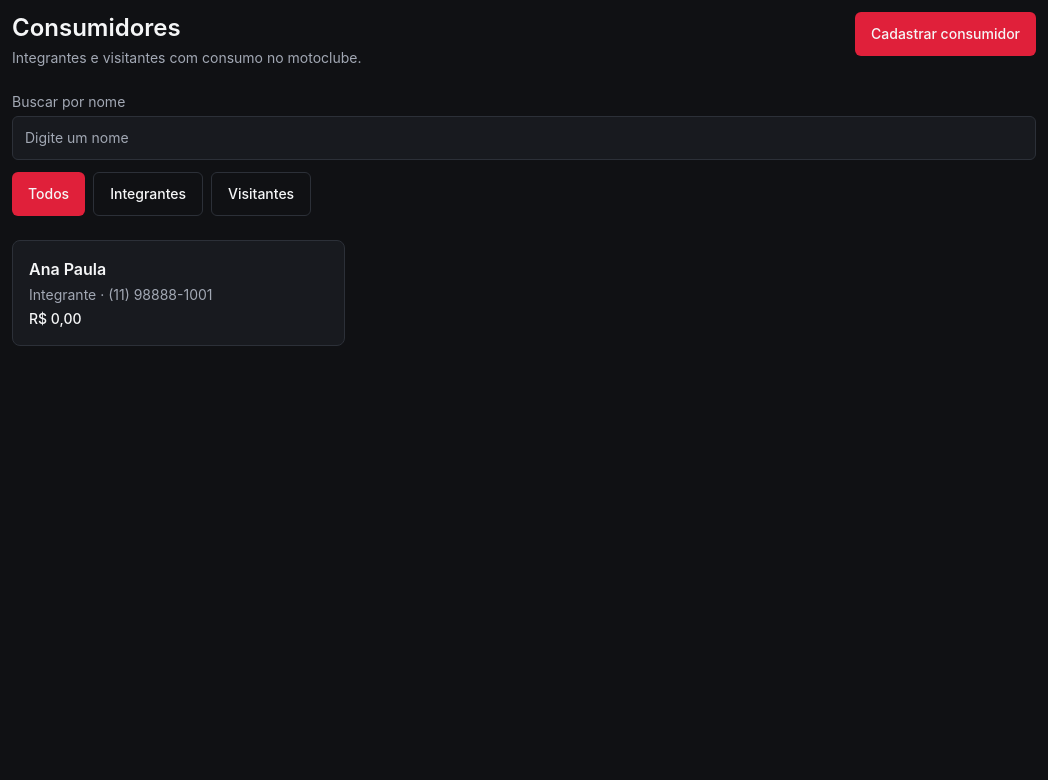
Test: ConsumersView › reports a duplicate integrante name in pt-BR and keeps the form open
Step 1. Click the button "Cadastrar consumidor" → [946, 34], box [855, 12, 1036, 56]
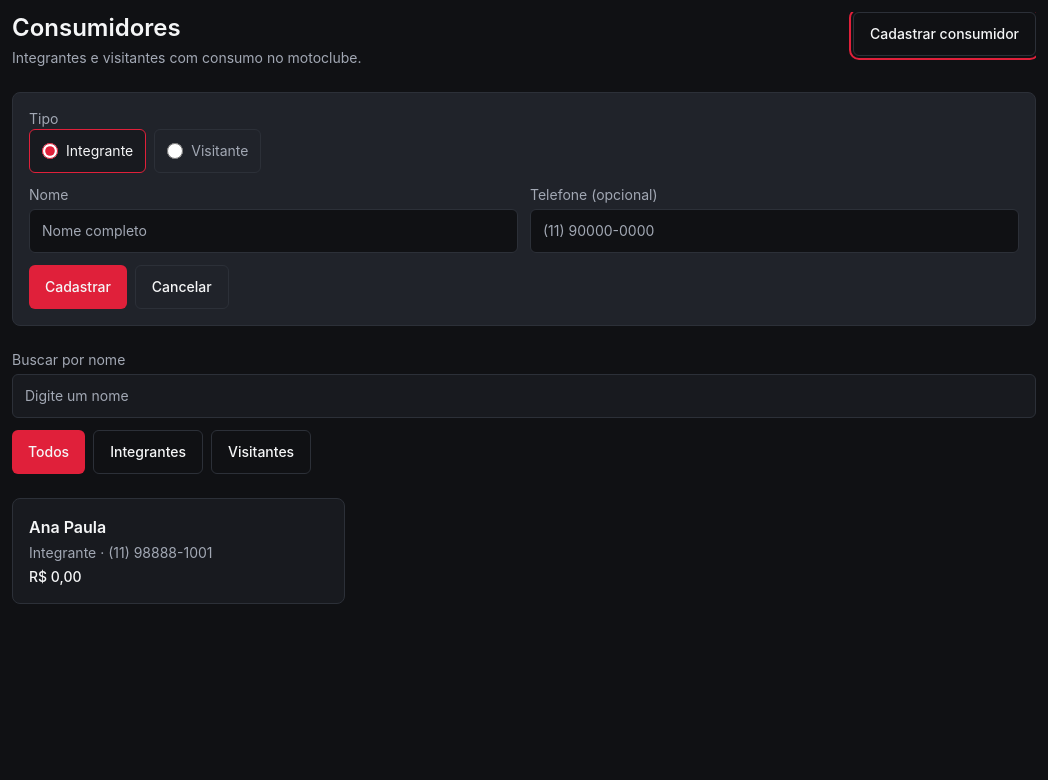
Step 2. Type "ana paula" into the field labelled "Nome" → [274, 231], box [29, 209, 518, 253]
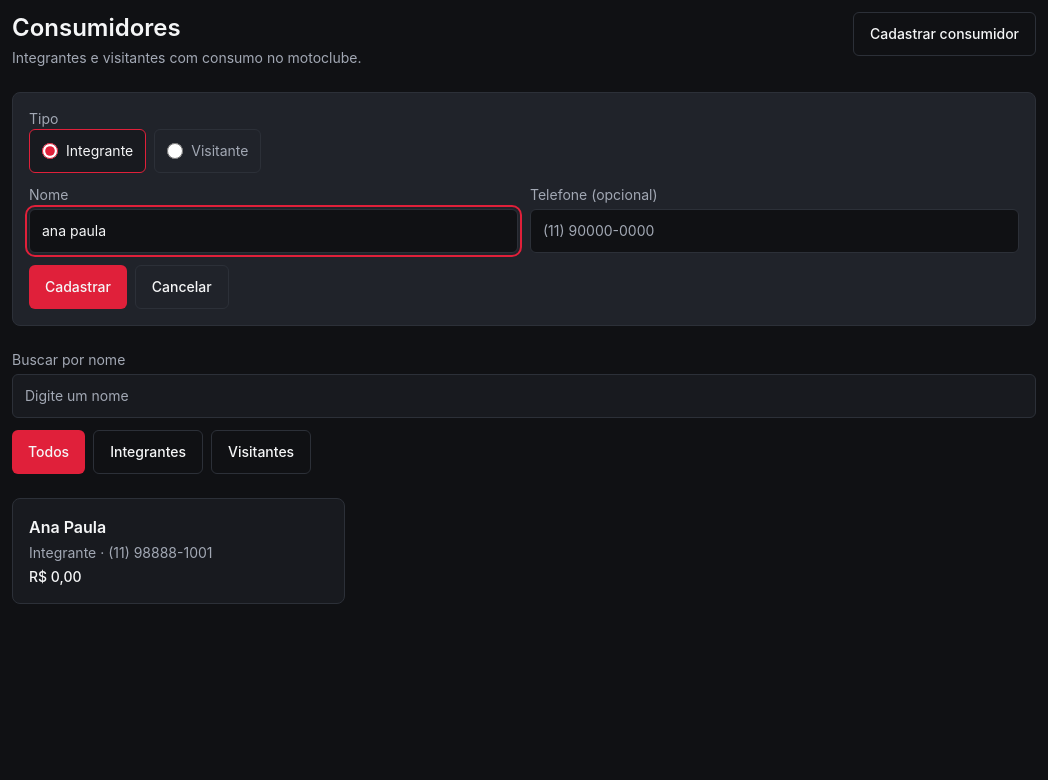
Step 3. Click the button "Cadastrar" → [78, 287], box [29, 265, 127, 309]
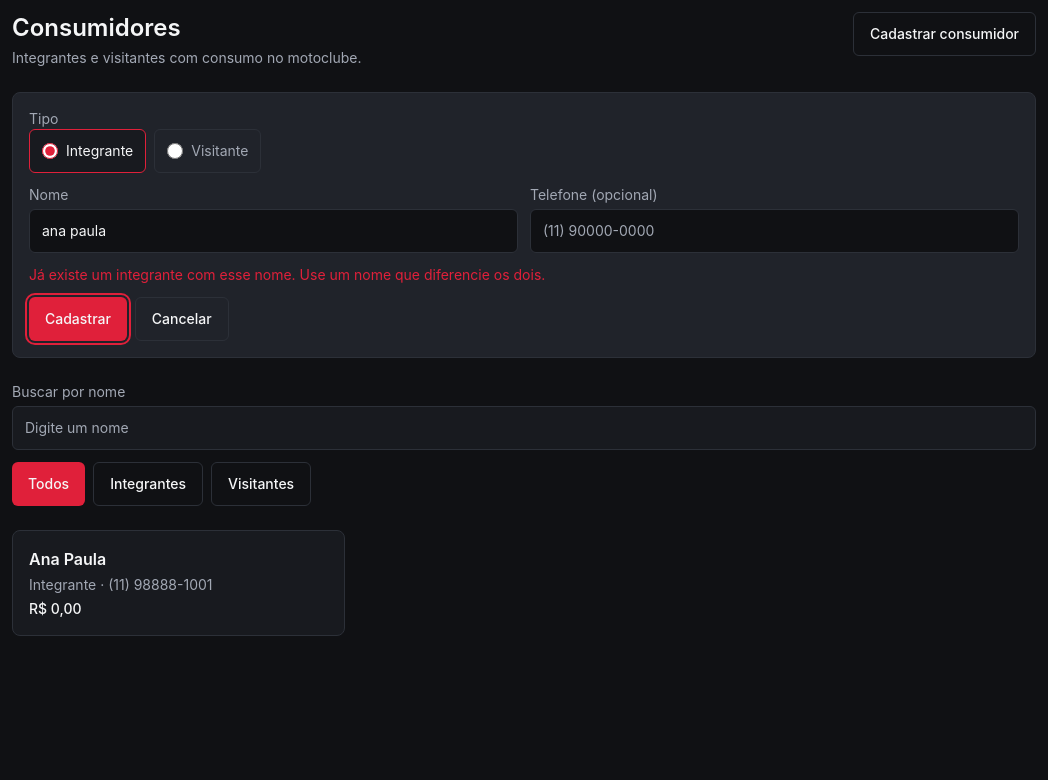
Expected: the message reads "Já existe um integrante com esse nome. Use um nome que diferencie os dois.", [29, 266, 545, 283]
